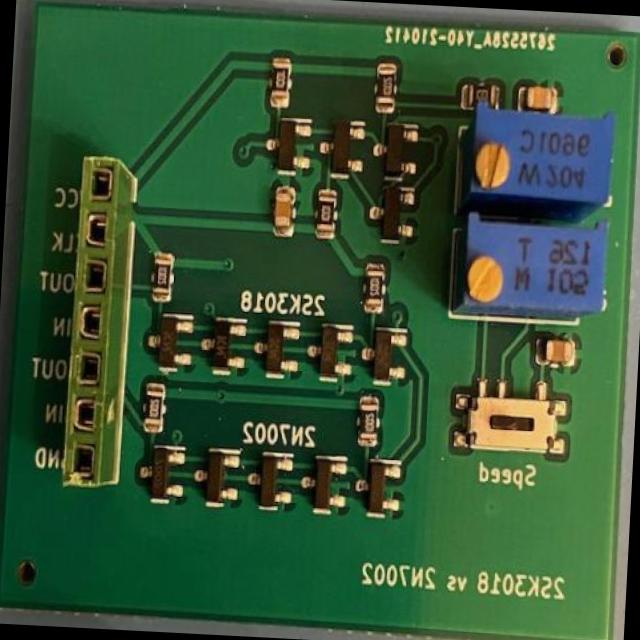capacitor: (268, 180, 298, 240), (520, 88, 564, 114), (536, 338, 574, 368)
connector: (56, 147, 136, 498)
potentiometer: (458, 212, 610, 322), (463, 104, 611, 213)
resistor: (356, 265, 388, 313), (268, 57, 292, 113), (462, 76, 498, 111), (152, 248, 175, 302), (374, 62, 398, 111), (358, 398, 380, 450), (144, 390, 162, 425)
transistor: (142, 436, 182, 504), (304, 456, 342, 522), (197, 446, 235, 511), (255, 321, 294, 379), (271, 116, 311, 172), (148, 310, 185, 370), (372, 182, 412, 237), (363, 456, 396, 520), (252, 454, 287, 514), (377, 126, 417, 178), (316, 327, 352, 383), (369, 324, 409, 374), (326, 116, 361, 170), (212, 316, 242, 378)
